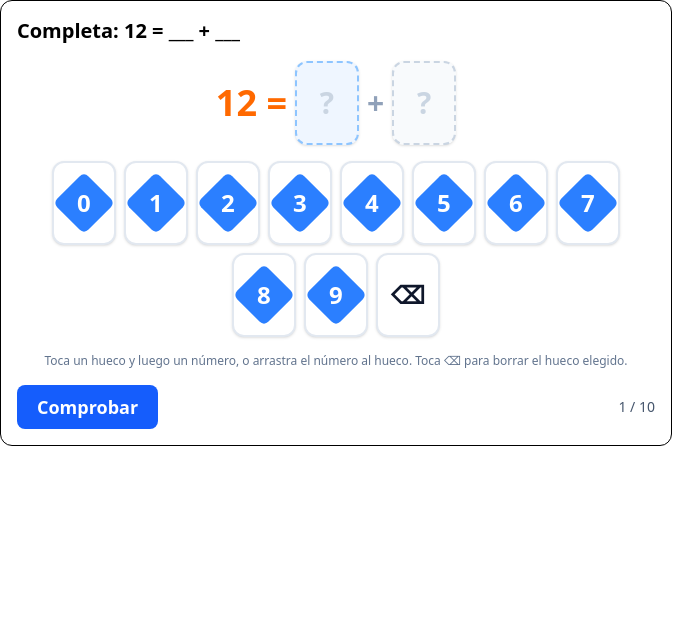
Test: ExerciseRunner › decompose: comprobar con un hueco vacío avisa sin validar
Click the button "Comprobar".
click(88, 407)  # box 17,385 -> 158,429
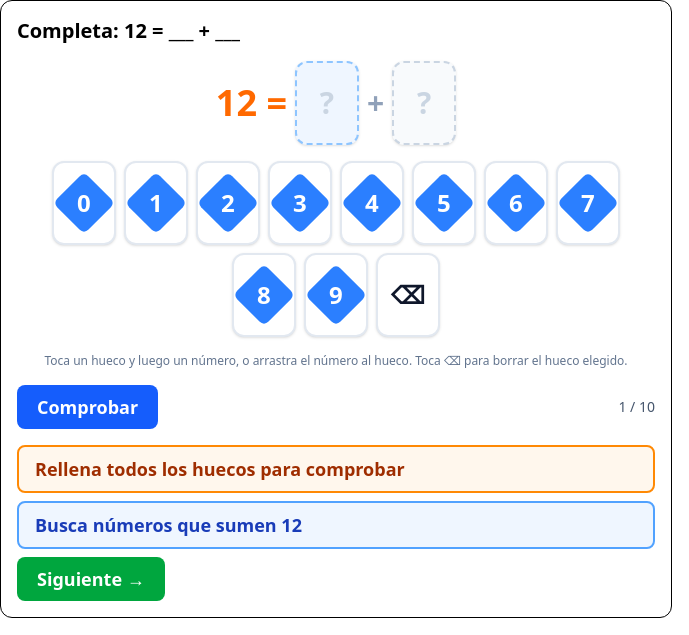
expect the message with test id "feedback-banner" shows "Rellena todos los huecos": met, box 35,457 -> 405,481
